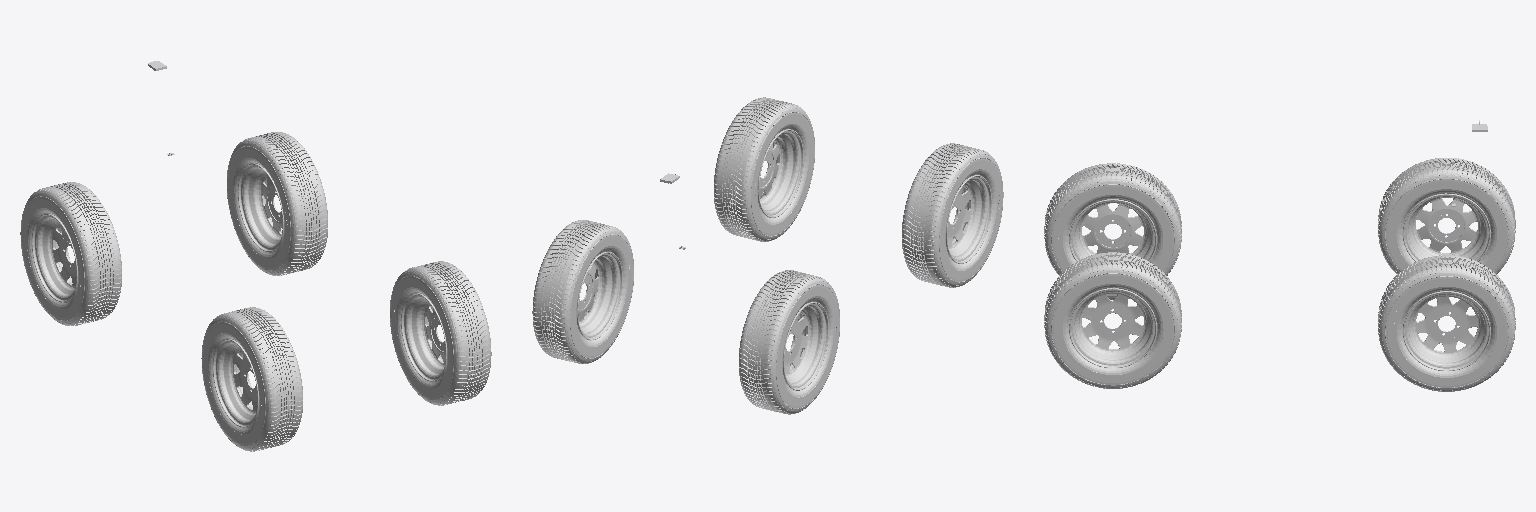
URDF robot description (amr_tec_1):
<?xml version="1.0" encoding="utf-8"?>
<!-- This URDF was automatically created by SolidWorks to URDF Exporter! Originally created by Stephen Brawner (brawner@gmail.com) 
     Commit Version: 1.6.0-4-g7f85cfe  Build Version: 1.6.7995.38578
     For more information, please see http://wiki.ros.org/sw_urdf_exporter -->
<!-- This URDF is kept as legacy and will be deleted in further versions of this package. Please refer to amr.urdf.xacro -->
<robot
  name="amr_tec_1">
  <link name="base_footprint"/>
  <link
    name="base_link">
    <inertial>
      <origin
        xyz="-0.0222986727626558 -0.103538876994477 0.130202562302216"
        rpy="0 0 0" />
      <mass
        value="30.2192194697933" />
      <inertia
        ixx="1.1404114097681"
        ixy="0.0547930702310783"
        ixz="0.0201944026363161"
        iyy="0.409771420291759"
        iyz="-0.0194016060635621"
        izz="1.45153548756467" />
    </inertial>
    <visual>
      <origin
        xyz="0 0 0"
        rpy="0 0 0" />
      <geometry>
        <mesh
          filename="package://amr_description/meshes/Chasis_link.STL" />
      </geometry>
      <material
        name="base_color">
        <color
          rgba="0.894117647058823 0.894117647058823 0.894117647058823 1" />
      </material>
    </visual>
    <collision>
      <origin
        xyz="0 0 0"
        rpy="0 0 0" />
      <geometry>
        <mesh
          filename="package://amr_description/meshes/Chasis_link.STL" />
      </geometry>
    </collision>
  </link>
  <joint name="base_joint" type="fixed">
    <parent link="base_footprint"/>
    <child link="base_link"/>
    <origin xyz="0.0 0.0 0.25" rpy="0.0 0.0 0.0"/>
  </joint>
  <link
    name="front_right_wheel_link">
    <inertial>
      <origin
        xyz="-0.00566401631473373 9.90724435080415E-05 -0.000271963367299288"
        rpy="0 0 0" />
      <mass
        value="6.69183973985027" />
      <inertia
        ixx="0.357347212224778"
        ixy="-1.07740917030233E-07"
        ixz="4.64182261268584E-05"
        iyy="0.204903978015561"
        iyz="4.80243600331509E-06"
        izz="0.204920649676514" />
    </inertial>
    <visual>
      <origin
        xyz="0 0 0"
        rpy="0 0 0" />
      <geometry>
        <mesh
          filename="package://amr_description/meshes/front_right_wheel_link.STL" />
      </geometry>
      <material
        name="wheel_color">
        <color
          rgba="0.894117647058823 0.894117647058823 0.894117647058823 1" />
      </material>
    </visual>
    <collision>
      <origin
        xyz="0 0 0"
        rpy="0 0 0" />
      <geometry>
        <mesh
          filename="package://amr_description/meshes/front_right_wheel_link.STL" />
      </geometry>
    </collision>
  </link>
  <joint
    name="front_right_wheel_joint"
    type="continuous">
    <origin
      xyz="0.49047 0.7137 0.045273"
      rpy="0 0.00030616 0" />
    <parent
      link="base_link" />
    <child
      link="front_right_wheel_link" />
    <axis
      xyz="-1 0 -0.00030616" />
    <dynamics
      damping="0.5"
      friction="1" />
  </joint>
  <link
    name="front_left_wheel_link">
    <inertial>
      <origin
        xyz="0.00566402902001811 0.000174876625691156 0.000230333408740846"
        rpy="0 0 0" />
      <mass
        value="6.69183974290597" />
      <inertia
        ixx="0.357347211995644"
        ixy="2.73805309929157E-08"
        ixz="4.63975052563284E-05"
        iyy="0.204902723124111"
        iyz="7.69970830090359E-07"
        izz="0.204921904315497" />
    </inertial>
    <visual>
      <origin
        xyz="0 0 0"
        rpy="0 0 0" />
      <geometry>
        <mesh
          filename="package://amr_description/meshes/front_left_wheel_link.STL" />
      </geometry>
      <material
        name="wheel_color">
        <color
          rgba="0.894117647058823 0.894117647058823 0.894117647058823 1" />
      </material>
    </visual>
    <collision>
      <origin
        xyz="0 0 0"
        rpy="0 0 0" />
      <geometry>
        <mesh
          filename="package://amr_description/meshes/front_left_wheel_link.STL" />
      </geometry>
    </collision>
  </link>
  <joint
    name="front_left_wheel_joint"
    type="continuous">
    <origin
      xyz="-0.48953 0.71363 0.044772"
      rpy="0 0.00030616 0" />
    <parent
      link="base_link" />
    <child
      link="front_left_wheel_link" />
    <axis
      xyz="1 0 0.00030616" />
    <dynamics
      damping="0.5"
      friction="1" />
  </joint>
  <link
    name="rear_right_wheel_link">
    <inertial>
      <origin
        xyz="-0.00566416893167465 -0.000175443022534916 0.000226429859826904"
        rpy="0 0 0" />
      <mass
        value="6.69183959859615" />
      <inertia
        ixx="0.357347210530256"
        ixy="2.71918139990335E-08"
        ixz="4.69355611226319E-05"
        iyy="0.204902726766514"
        iyz="-8.1768483672708E-07"
        izz="0.204921899865492" />
    </inertial>
    <visual>
      <origin
        xyz="0 0 0"
        rpy="0 0 0" />
      <geometry>
        <mesh
          filename="package://amr_description/meshes/rear_right_wheel_link.STL" />
      </geometry>
      <material
        name="wheel_color">
        <color
          rgba="0.894117647058823 0.894117647058823 0.894117647058823 1" />
      </material>
    </visual>
    <collision>
      <origin
        xyz="0 0 0"
        rpy="0 0 0" />
      <geometry>
        <mesh
          filename="package://amr_description/meshes/rear_right_wheel_link.STL" />
      </geometry>
    </collision>
  </link>
  <joint
    name="rear_right_wheel_joint"
    type="continuous">
    <origin
      xyz="0.44847 -0.686 0.038273"
      rpy="0 0.00030616 0" />
    <parent
      link="base_link" />
    <child
      link="rear_right_wheel_link" />
    <axis
      xyz="-1 0 -0.00030616" />
    <dynamics
      damping="0.5"
      friction="1" />
  </joint>
  <link
    name="rear_left_wheel_link">
    <inertial>
      <origin
        xyz="0.00566398917654387 0.000167290260409625 0.000236661415633888"
        rpy="0 0 0" />
      <mass
        value="6.69183133120593" />
      <inertia
        ixx="0.357347200837873"
        ixy="3.34915201437461E-08"
        ixz="4.63916616915813E-05"
        iyy="0.20490267191407"
        iyz="1.3681642636337E-07"
        izz="0.204921942432232" />
    </inertial>
    <visual>
      <origin
        xyz="0 0 0"
        rpy="0 0 0" />
      <geometry>
        <mesh
          filename="package://amr_description/meshes/rear_left_wheel_link.STL" />
      </geometry>
      <material
        name="wheel_color">
        <color
          rgba="0.894117647058823 0.894117647058823 0.894117647058823 1" />
      </material>
    </visual>
    <collision>
      <origin
        xyz="0 0 0"
        rpy="0 0 0" />
      <geometry>
        <mesh
          filename="package://amr_description/meshes/rear_left_wheel_link.STL" />
      </geometry>
    </collision>
  </link>
  <joint
    name="rear_left_wheel_joint"
    type="continuous">
    <origin
      xyz="-0.44753 -0.68637 0.038266"
      rpy="0 0.00030616 0" />
    <parent
      link="base_link" />
    <child
      link="rear_left_wheel_link" />
    <axis
      xyz="1 0 0.00030616" />
    <dynamics
      damping="0.5"
      friction="1" />
  </joint>
  <link
    name="Imu_link">
    <inertial>
      <origin
        xyz="-0.000416200824923964 8.95467721959697E-05 -0.000586751245583366"
        rpy="0 0 0" />
      <mass
        value="0.00098313018365204" />
      <inertia
        ixx="2.72780814792229E-08"
        ixy="1.86463715352667E-11"
        ixz="-1.83135757569235E-11"
        iyy="4.80453464098758E-08"
        iyz="-1.81575171892398E-12"
        izz="7.48563776021965E-08" />
    </inertial>
    <visual>
      <origin
        xyz="0 0 0"
        rpy="0 0 0" />
      <geometry>
        <mesh
          filename="package://amr_description/meshes/Imu_link.STL" />
      </geometry>
      <material
        name="">
        <color
          rgba="0.894117647058823 0.894117647058823 0.894117647058823 1" />
      </material>
    </visual>
    <collision>
      <origin
        xyz="0 0 0"
        rpy="0 0 0" />
      <geometry>
        <mesh
          filename="package://amr_description/meshes/Imu_link.STL" />
      </geometry>
    </collision>
  </link>
  <joint
    name="Imu_joint"
    type="fixed">
    <origin
      xyz="0.00070051 0.74389 0.36865"
      rpy="0 0 0" />
    <parent
      link="base_link" />
    <child
      link="Imu_link" />
    <axis
      xyz="0 0 0" />
  </joint>
  <link
    name="Lidar-link">
    <inertial>
      <origin
        xyz="-3.28690208511073E-06 -0.000102129182461219 -0.00210332287127607"
        rpy="0 0 0" />
      <mass
        value="0.605610172285068" />
      <inertia
        ixx="0.000670924675018133"
        ixy="1.75257333255553E-11"
        ixz="-6.6763716542643E-08"
        iyy="0.000667040712181602"
        iyz="-1.8128946176005E-06"
        izz="0.000804073841920665" />
    </inertial>
    <!-- Comente el siguiente bloque de código porque la malla de visual y colisión ya están incluidas en el archivo Chasis_link.STL.
         Hay que corregir la malla. -->
    <!-- <visual>
      <origin
        xyz="0 0 0"
        rpy="0 0 0" />
      <geometry>
        <mesh
          filename="package://amr_description/meshes/Lidar-link.STL" />
      </geometry>
      <material
        name="">
        <color
          rgba="0.894117647058823 0.894117647058823 0.894117647058823 1" />
      </material>
    </visual>
    <collision>
      <origin
        xyz="0 0 0"
        rpy="0 0 0" />
      <geometry>
        <mesh
          filename="package://amr_description/meshes/Lidar-link.STL" />
      </geometry>
    </collision> -->
  </link>
  <joint
    name="Lidar_joint"
    type="fixed">
    <origin
      xyz="-0.0011917 0.84916 0.67618"
      rpy="0 0.00030616 0" />
    <parent
      link="base_link" />
    <child
      link="Lidar-link" />
    <axis
      xyz="0 0 0" />
  </joint>
  <link
    name="ZED_link">
    <inertial>
      <origin
        xyz="4.01008458317514E-07 0.000992634620824995 -0.00109846133983421"
        rpy="0 0 0" />
      <mass
        value="0.170322699192855" />
      <inertia
        ixx="3.25740976915344E-05"
        ixy="-3.48012487305273E-09"
        ixz="-7.84819532822551E-10"
        iyy="0.000383152093335362"
        iyz="1.25165691846446E-06"
        izz="0.000390407240953197" />
    </inertial>
    <!-- Comente el siguiente bloque de código porque la malla de visual y colisión ya están incluidas en el archivo Chasis_link.STL.
         Hay que corregir la malla. -->
    <!-- <visual>
      <origin
        xyz="0 0 0"
        rpy="0 0 0" />
      <geometry>
        <mesh
          filename="package://amr_description/meshes/ZED_link.STL" />
      </geometry>
      <material
        name="">
        <color
          rgba="0.894117647058823 0.894117647058823 0.894117647058823 1" />
      </material>
    </visual>
    <collision>
      <origin
        xyz="0 0 0"
        rpy="0 0 0" />
      <geometry>
        <mesh
          filename="package://amr_description/meshes/ZED_link.STL" />
      </geometry>
    </collision> -->
  </link>
  <joint
    name="ZED_joint"
    type="fixed">
    <origin
      xyz="0.0028913 0.96093 0.633"
      rpy="0 0.00030616 0" />
    <parent
      link="base_link" />
    <child
      link="ZED_link" />
    <axis
      xyz="0 0 0" />
  </joint>
  <link
    name="RTK_link">
    <inertial>
      <origin
        xyz="-6.21704556298401E-05 -4.01408025252348E-06 9.84372148865598E-06"
        rpy="0 0 0" />
      <mass
        value="0.0350564949343592" />
      <inertia
        ixx="1.32966912963313E-05"
        ixy="-2.4850045235485E-07"
        ixz="2.51600692375413E-08"
        iyy="8.28243023213713E-06"
        iyz="1.60097268930069E-09"
        izz="2.09515010390878E-05" />
    </inertial>
    <visual>
      <origin
        xyz="0 0 0"
        rpy="0 0 0" />
      <geometry>
        <mesh
          filename="package://amr_description/meshes/RTK_link.STL" />
      </geometry>
      <material
        name="">
        <color
          rgba="0.894117647058823 0.894117647058823 0.894117647058823 1" />
      </material>
    </visual>
    <collision>
      <origin
        xyz="0 0 0"
        rpy="0 0 0" />
      <geometry>
        <mesh
          filename="package://amr_description/meshes/RTK_link.STL" />
      </geometry>
    </collision>
  </link>
  <joint
    name="RTK_joint"
    type="fixed">
    <origin
      xyz="-0.0014412 0.8515 0.7225"
      rpy="0 0.00030616 0" />
    <parent
      link="base_link" />
    <child
      link="RTK_link" />
    <axis
      xyz="0 0 0" />
  </joint>
</robot>

--- What the picture shows (computed from the rendered views, not written in the file) ---
The picture shows the robot from 3 angles, left to right: view 1: azimuth 30°, elevation 25°; view 2: azimuth 150°, elevation 25°; view 3: azimuth 270°, elevation 25°; orthographic projection.
Robot: amr_tec_1 — 10 links, 9 joints (4 continuous, 5 fixed); root link base_footprint; default pose: all joints at 0.
Links seen in each view (by area): view 1: rear_right_wheel_link, front_left_wheel_link, rear_left_wheel_link, front_right_wheel_link; view 2: rear_left_wheel_link, front_right_wheel_link, rear_right_wheel_link, front_left_wheel_link; view 3: rear_right_wheel_link, front_right_wheel_link, front_left_wheel_link, rear_left_wheel_link.
Link boxes in pixels (bbox=[...]): rear_right_wheel_link: bbox=[390, 261, 491, 405]; front_left_wheel_link: bbox=[20, 182, 121, 325]; rear_left_wheel_link: bbox=[201, 307, 302, 451]; front_right_wheel_link: bbox=[227, 132, 327, 275]; rear_left_wheel_link: bbox=[902, 143, 1003, 287]; front_right_wheel_link: bbox=[532, 220, 633, 363]; rear_right_wheel_link: bbox=[714, 97, 814, 241]; front_left_wheel_link: bbox=[739, 270, 839, 414]; rear_right_wheel_link: bbox=[1044, 252, 1181, 388]; front_right_wheel_link: bbox=[1378, 255, 1515, 391]; front_left_wheel_link: bbox=[1378, 158, 1515, 273]; rear_left_wheel_link: bbox=[1044, 163, 1181, 299].
Size in the robot's own frame: 1.14 by 1.98 by 0.998 metres.
Meshes: 7 distinct files referenced, 6 mesh visuals loaded (6 binary STL); not drawn: 1 (reference not matched to a file when rendering).
